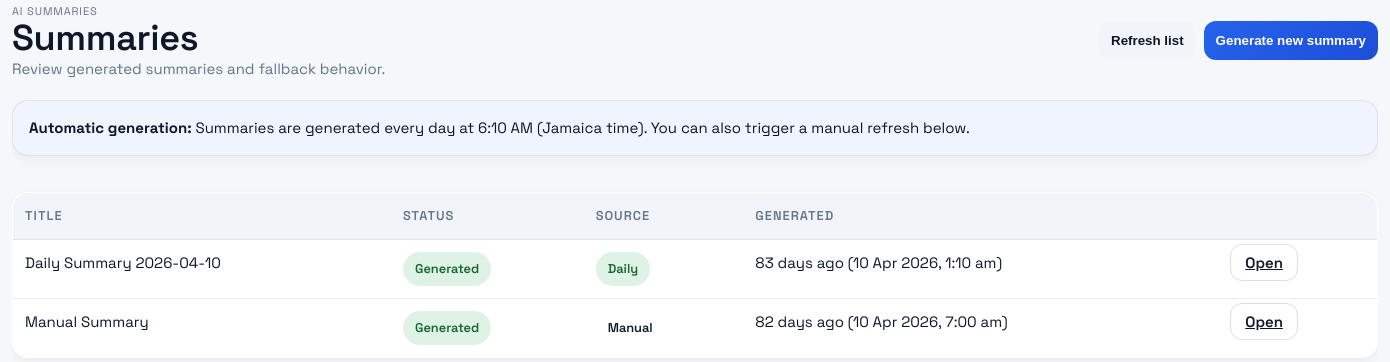
Scenario: SummariesPage › refresh button shows loading state
The image size is (1390, 362).
Click the button "Generate new summary". click: (1291, 40)
box: [1204, 20, 1378, 60]
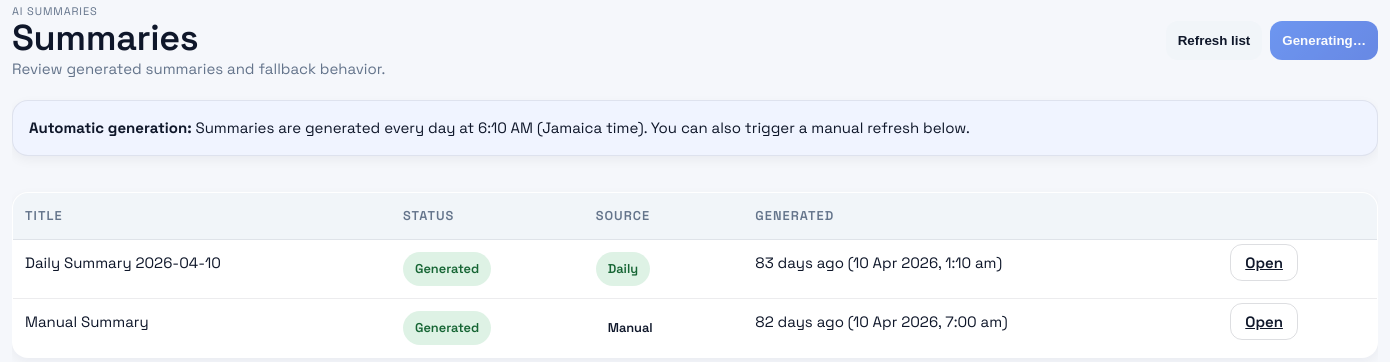
Expected: the button "Generating…" is shown, [1270, 20, 1378, 60]
